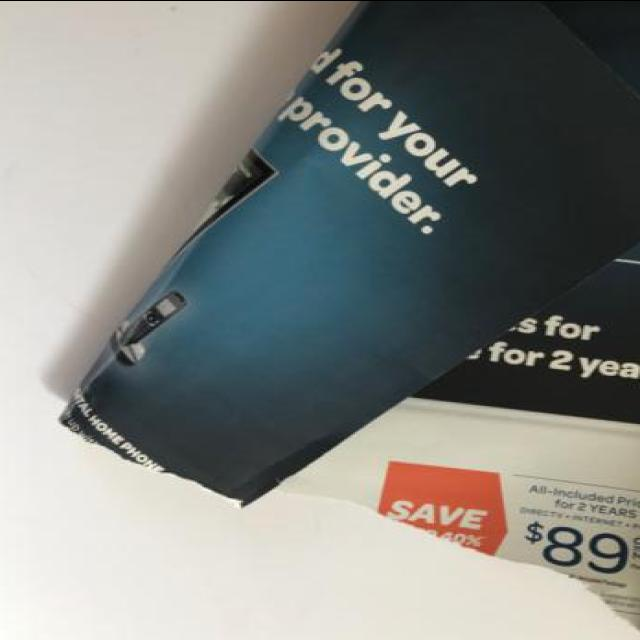kertas: (54, 0, 640, 630)
